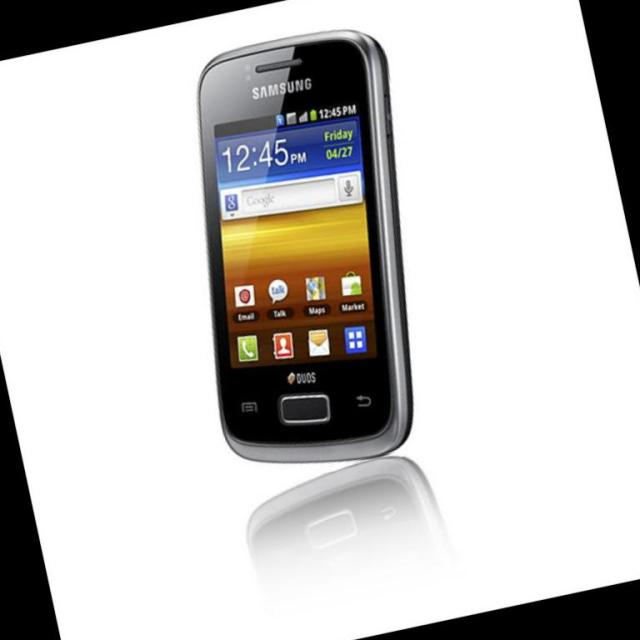handphone: (197, 24, 403, 469)
